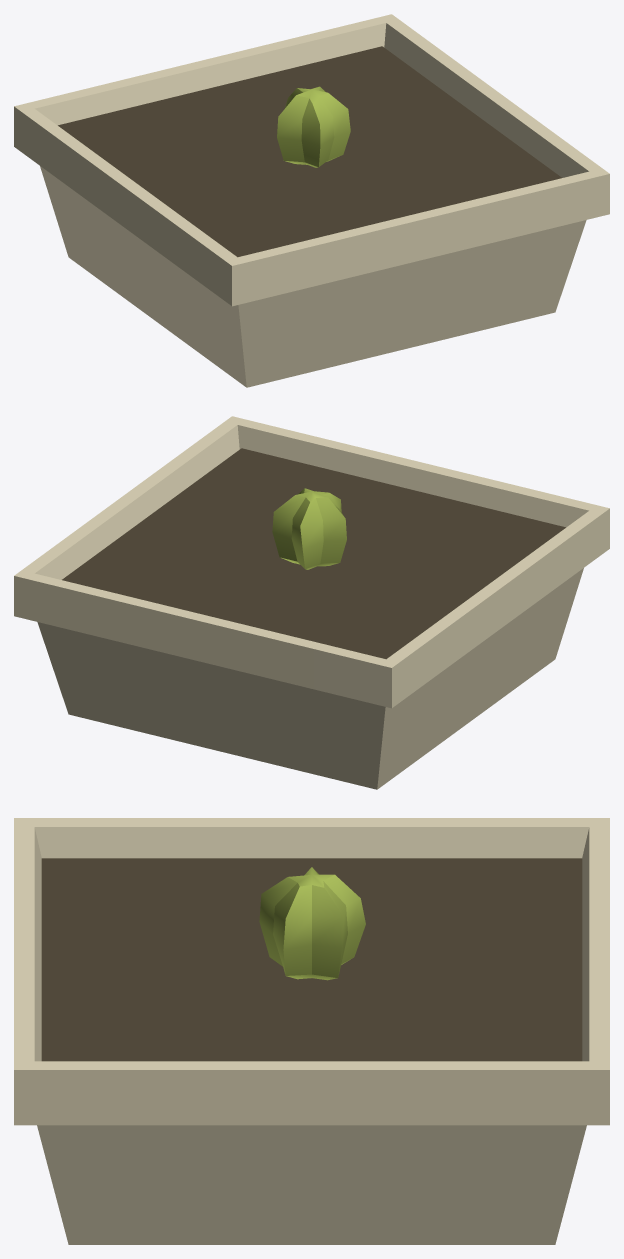
File: plant02_02.gltf
3 renders of one model, top to bottom at view 1: azimuth 30°, elevation 25°; view 2: azimuth 150°, elevation 25°; view 3: azimuth 270°, elevation 25°, orthographic. The views are drawn at different scales.
Parts seen in each view (by area): view 1: plant02_stage01:pot, plant02_stage01:dirt, pCylinder1; view 2: plant02_stage01:pot, plant02_stage01:dirt, pCylinder1; view 3: plant02_stage01:pot, plant02_stage01:dirt, pCylinder1.
Part boxes in pixels (bbox=[...]): plant02_stage01:pot: bbox=[14, 14, 609, 387]; plant02_stage01:dirt: bbox=[58, 46, 561, 257]; pCylinder1: bbox=[277, 86, 350, 167]; plant02_stage01:pot: bbox=[14, 416, 609, 789]; plant02_stage01:dirt: bbox=[62, 448, 565, 659]; pCylinder1: bbox=[272, 488, 346, 569]; plant02_stage01:pot: bbox=[14, 818, 609, 1244]; plant02_stage01:dirt: bbox=[41, 858, 582, 1061]; pCylinder1: bbox=[259, 867, 365, 980].
Size of the model in its own units: 0.0188 by 0.00928 by 0.0188.
Materials: 1 (1 with a texture image).
